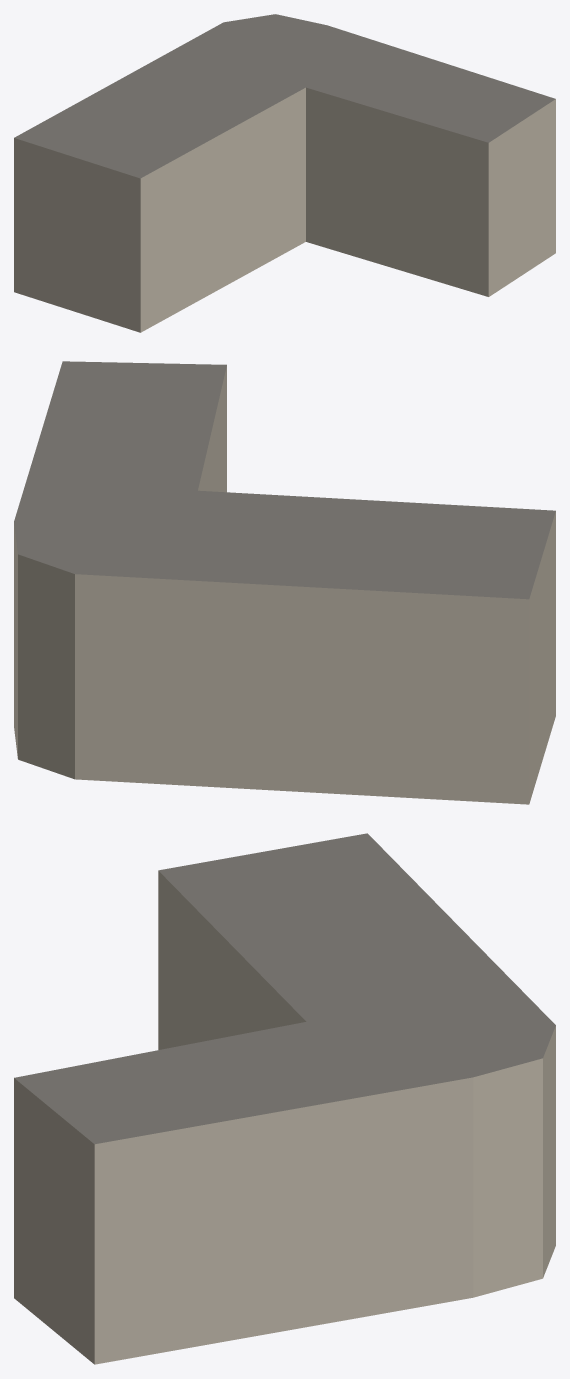
3 renders of one model, top to bottom at view 1: azimuth 30°, elevation 25°; view 2: azimuth 150°, elevation 25°; view 3: azimuth 270°, elevation 25°, orthographic. The views are drawn at different scales.
Parts seen in each view (by area): view 1: HP-w369342604; view 2: HP-w369342604; view 3: HP-w369342604.
Part boxes in pixels (box(x1,y1,x2,y2)): HP-w369342604: box(14, 14, 555, 332); HP-w369342604: box(14, 361, 555, 804); HP-w369342604: box(14, 833, 555, 1364).
Bounding box in the file's own units: 54.48 × 18 × 40.13.
